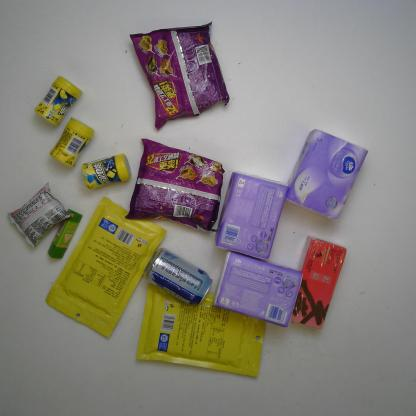Alcohol: (143, 247, 212, 306)
Dessert: (6, 182, 73, 249)
Dried Fruit: (45, 196, 168, 340), (135, 282, 269, 378)
Gum: (34, 75, 82, 127), (49, 116, 96, 168), (81, 152, 132, 190)
Instant Drink: (288, 235, 346, 330)
Instant Noodles: (128, 21, 232, 130), (122, 138, 226, 236)
Stationery: (46, 209, 82, 260)
Tissue: (285, 129, 369, 219), (211, 251, 303, 328), (214, 170, 288, 261)
